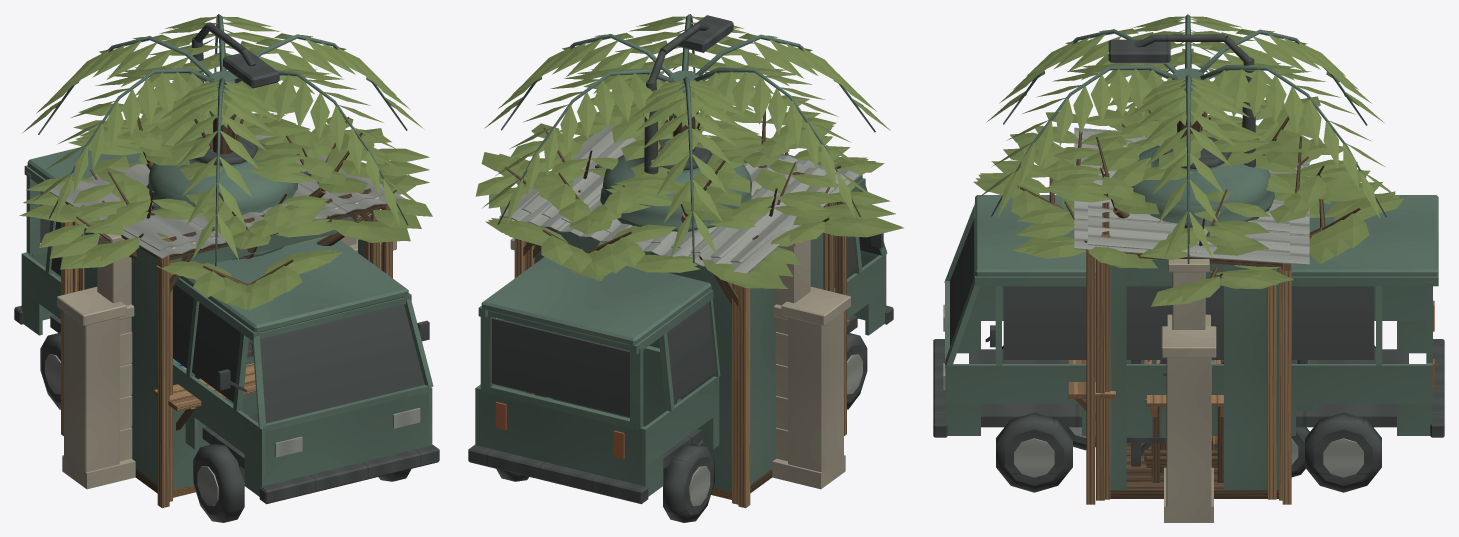
The picture shows the model from 3 angles, left to right: view 1: azimuth 30°, elevation 25°; view 2: azimuth 150°, elevation 25°; view 3: azimuth 270°, elevation 25°; orthographic projection.
Parts seen in each view (by area): view 1: minibus, palm, broadleaf-tree, acacia, kiosk, wall, canopy, water-tank, market-stall, gate, street-lamp; view 2: minibus, palm, broadleaf-tree, kiosk, acacia, wall, market-stall, canopy, water-tank, street-lamp, gate, three-wheeler; view 3: minibus, palm, kiosk, broadleaf-tree, acacia, market-stall, wall, water-tank, canopy, street-lamp, gate, three-wheeler.
Part boxes in pixels (x1,y1,x2,y2): minibus: (14, 147, 439, 522); palm: (21, 14, 424, 266); broadleaf-tree: (68, 81, 391, 258); acacia: (19, 108, 432, 309); kiosk: (49, 135, 405, 501); wall: (57, 239, 396, 489); canopy: (61, 197, 392, 508); water-tank: (146, 134, 297, 379); market-stall: (70, 156, 384, 370); gate: (93, 233, 356, 482); street-lamp: (190, 22, 279, 115); minibus: (468, 153, 893, 522); palm: (482, 14, 890, 262); broadleaf-tree: (510, 71, 842, 234); kiosk: (499, 131, 859, 504); acacia: (475, 109, 903, 288); wall: (510, 238, 850, 489); market-stall: (521, 126, 846, 290); canopy: (514, 186, 847, 508); water-tank: (600, 138, 751, 231); street-lamp: (644, 15, 733, 174); gate: (772, 240, 810, 482); three-wheeler: (558, 335, 703, 445); minibus: (933, 195, 1444, 492); palm: (976, 14, 1400, 263); kiosk: (1068, 127, 1309, 500); broadleaf-tree: (1010, 85, 1367, 259); acacia: (973, 107, 1404, 306); market-stall: (1088, 128, 1289, 499); wall: (1161, 314, 1216, 522); water-tank: (1131, 137, 1274, 466); canopy: (1086, 250, 1291, 504); street-lamp: (1108, 34, 1255, 167); gate: (1168, 259, 1209, 329); three-wheeler: (1064, 360, 1318, 477).
Size of the model in its own units: 3.93 by 3.83 by 4.3.
Materials: 1 (1 with a texture image).
